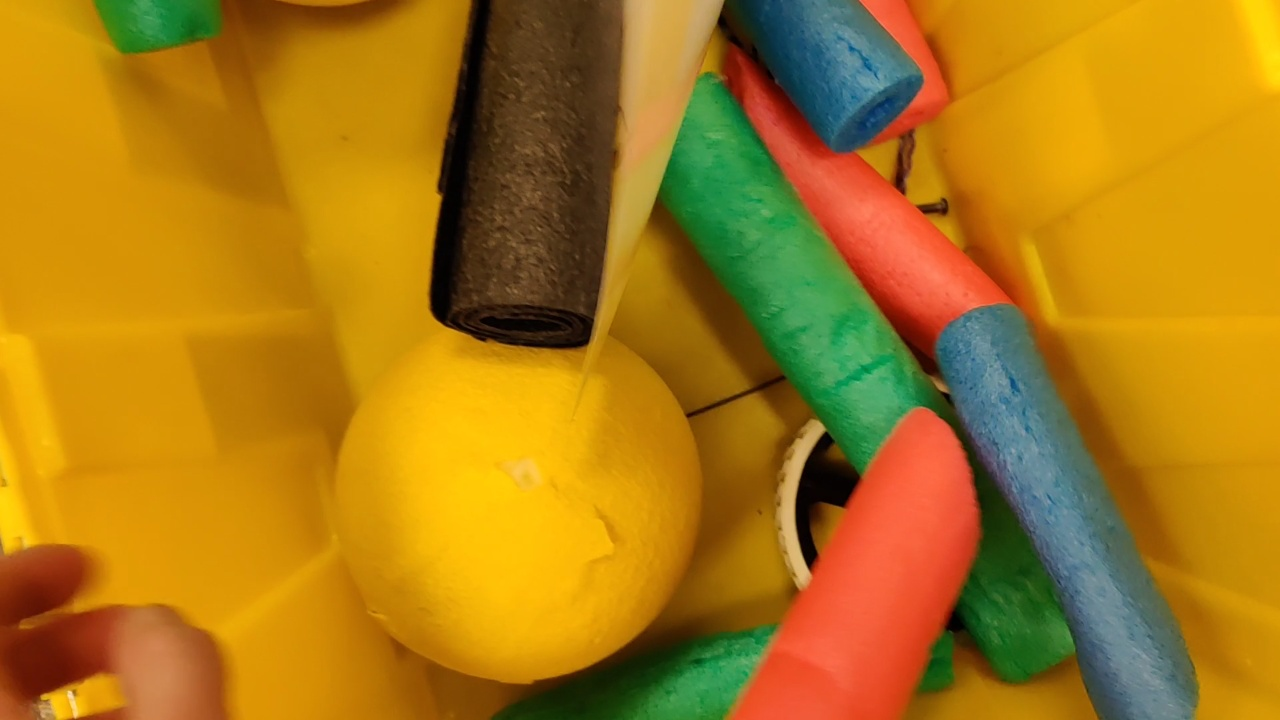Ball: (334, 321, 705, 684)
